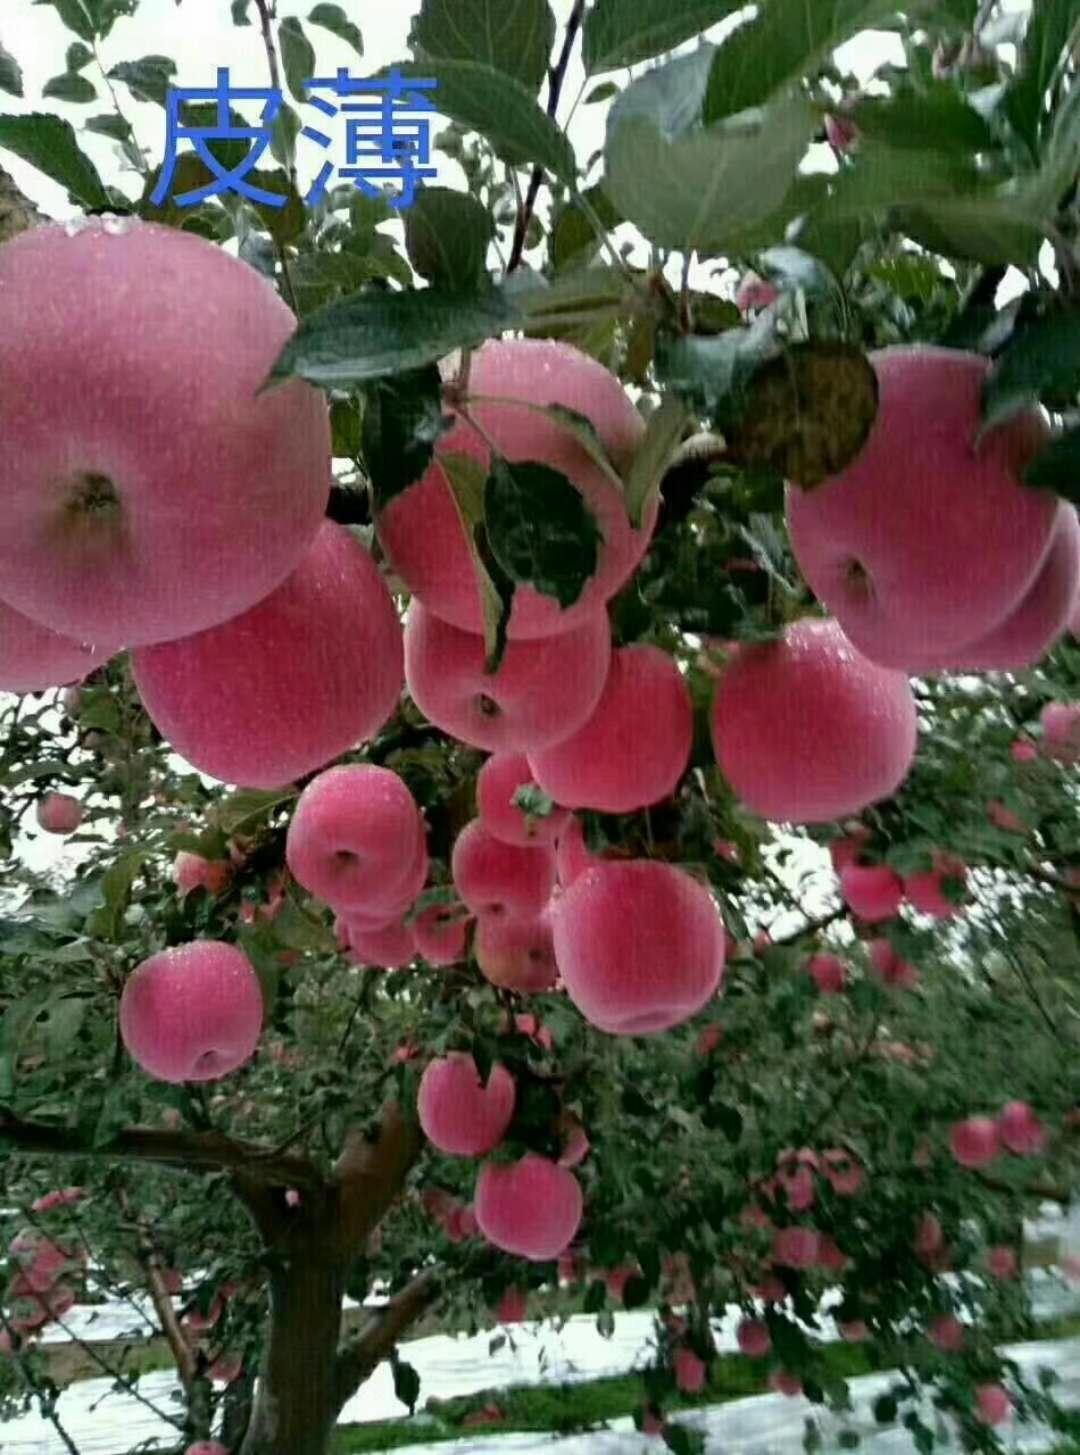apple: (0, 219, 328, 668), (128, 526, 404, 798), (35, 793, 81, 837)
